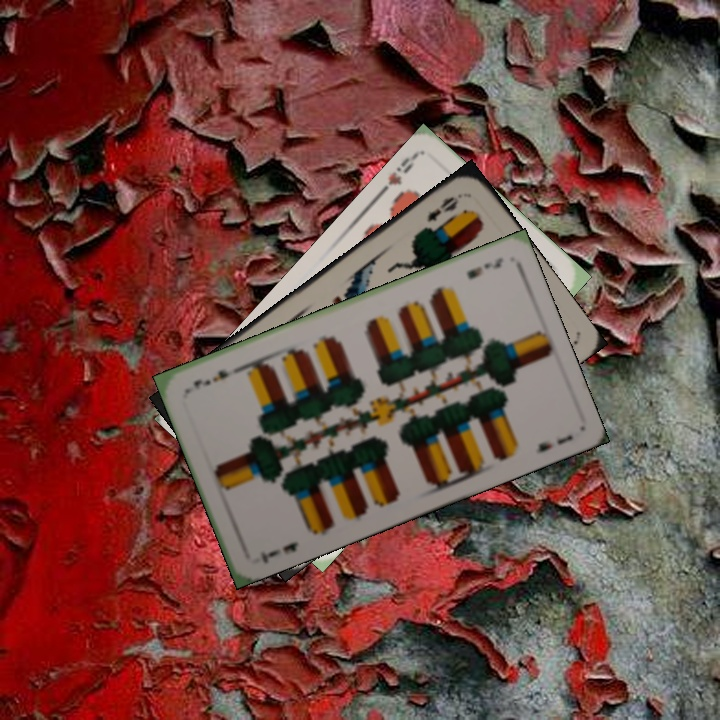E7: (256, 537, 302, 566), (462, 253, 506, 282)
EO: (422, 192, 462, 225)
H9: (374, 150, 420, 198)
